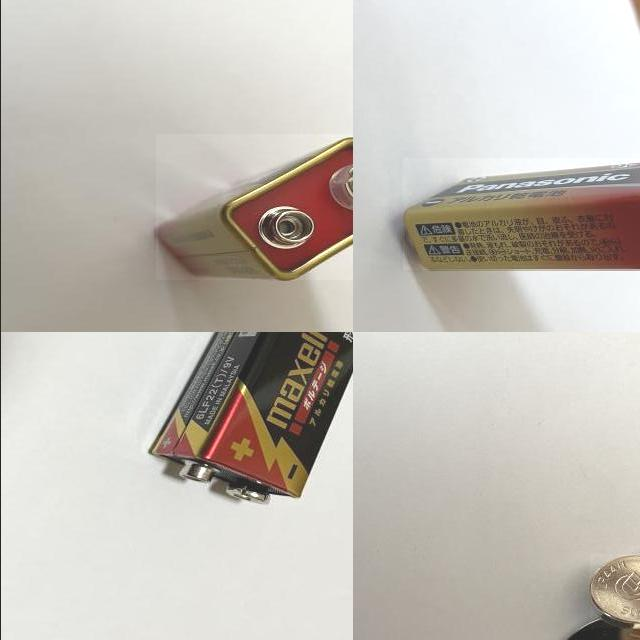9V: (146, 332, 352, 505), (155, 134, 352, 280), (402, 158, 640, 270)
